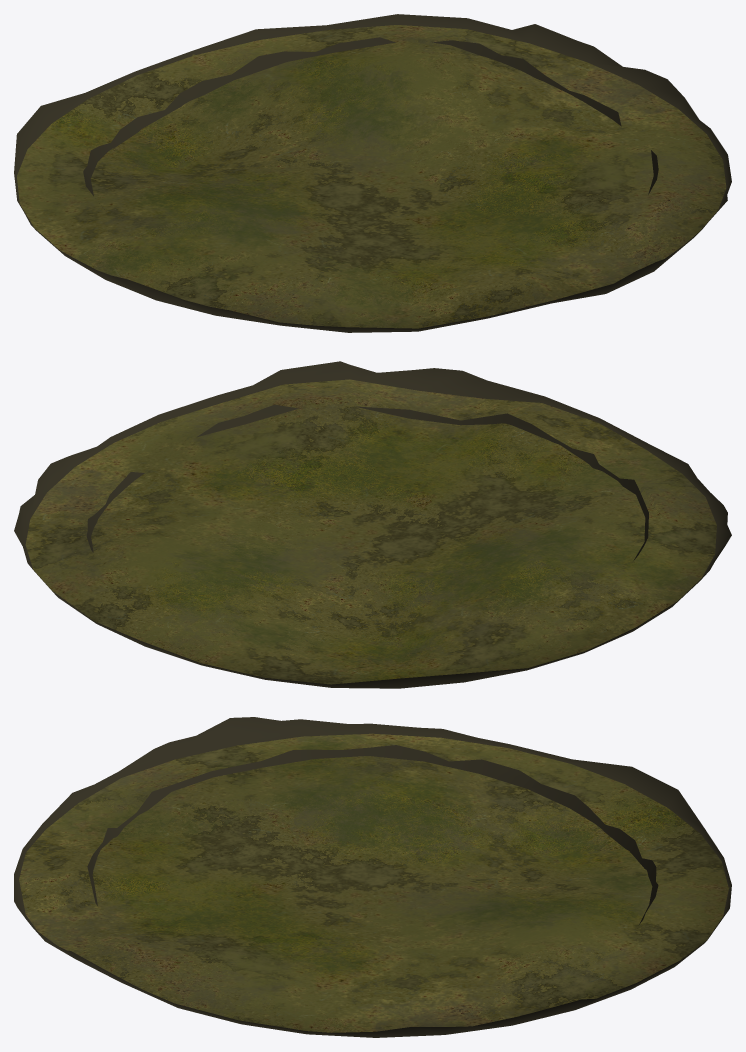
File: ground_far.fbx
3 renders of one model, top to bottom at view 1: azimuth 30°, elevation 25°; view 2: azimuth 150°, elevation 25°; view 3: azimuth 270°, elevation 25°, orthographic. The views are drawn at different scales.
Parts seen in each view (by area): view 1: ground.001; view 2: ground.001; view 3: ground.001.
Boxes of the visible parts, box(x1,y1,x2,y2) form: ground.001: box(14, 14, 731, 332); ground.001: box(14, 361, 731, 688); ground.001: box(14, 717, 731, 1037).
Size of the model in its own units: 20294 by 1480 by 20083.
